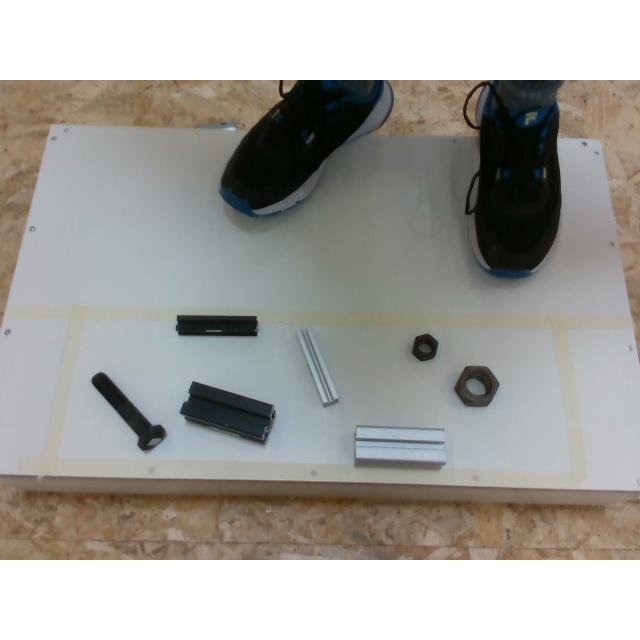F20_20_B: (177, 316, 257, 336)
F20_20_G: (296, 328, 338, 406)
M20: (410, 333, 438, 361)
M20_100: (90, 372, 166, 450)
M30: (454, 366, 498, 406)
S40_40_B: (180, 381, 276, 443)
S40_40_G: (355, 424, 445, 468)
